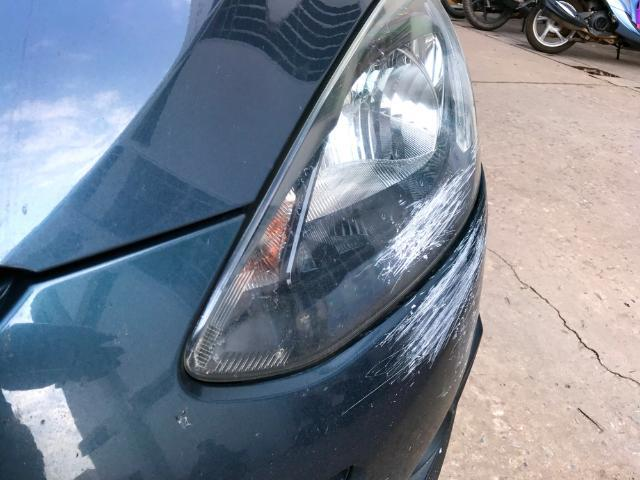scratch: (344, 207, 487, 416), (377, 142, 478, 287)
